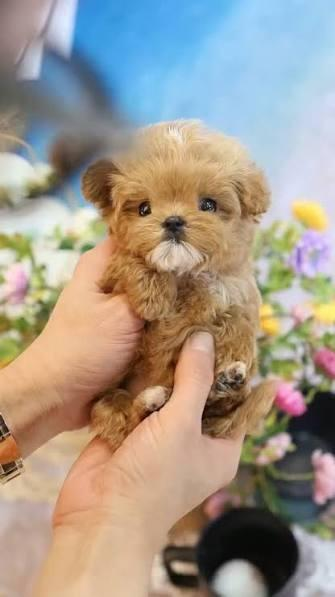puppy-dog: (82, 117, 278, 453)
